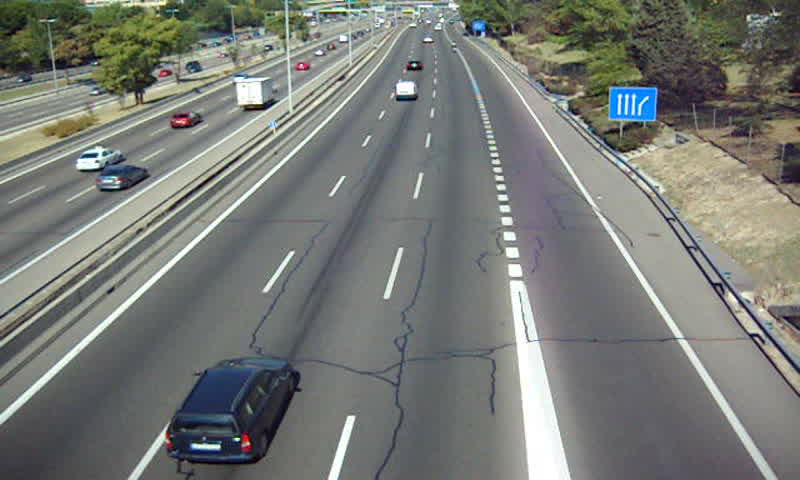car: (164, 356, 297, 462), (406, 59, 424, 71)
van: (394, 81, 418, 101)
